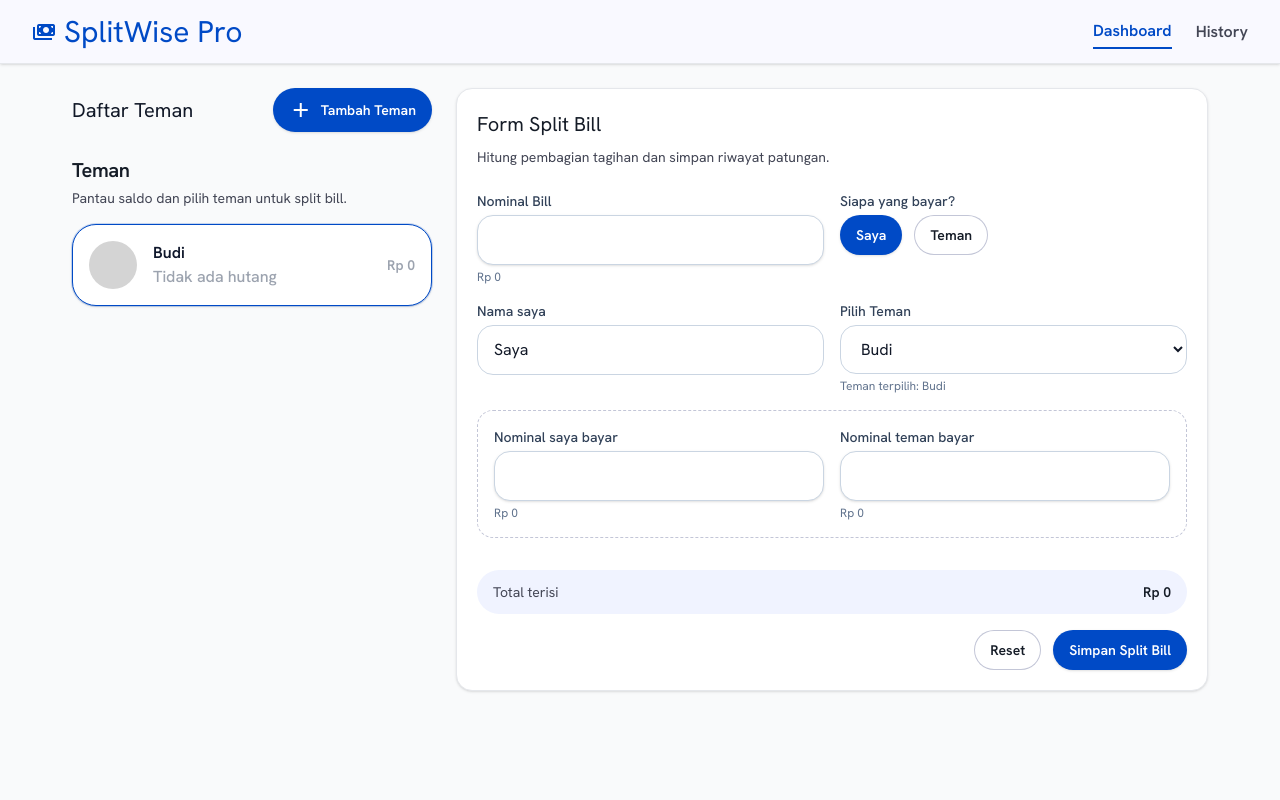
Test: Dashboard integration › submits split bill, shows success modal, and resets form
Type "Andi" into the field labelled "Nama saya" at (650, 350), box x1=477 y1=325 x2=824 y2=375
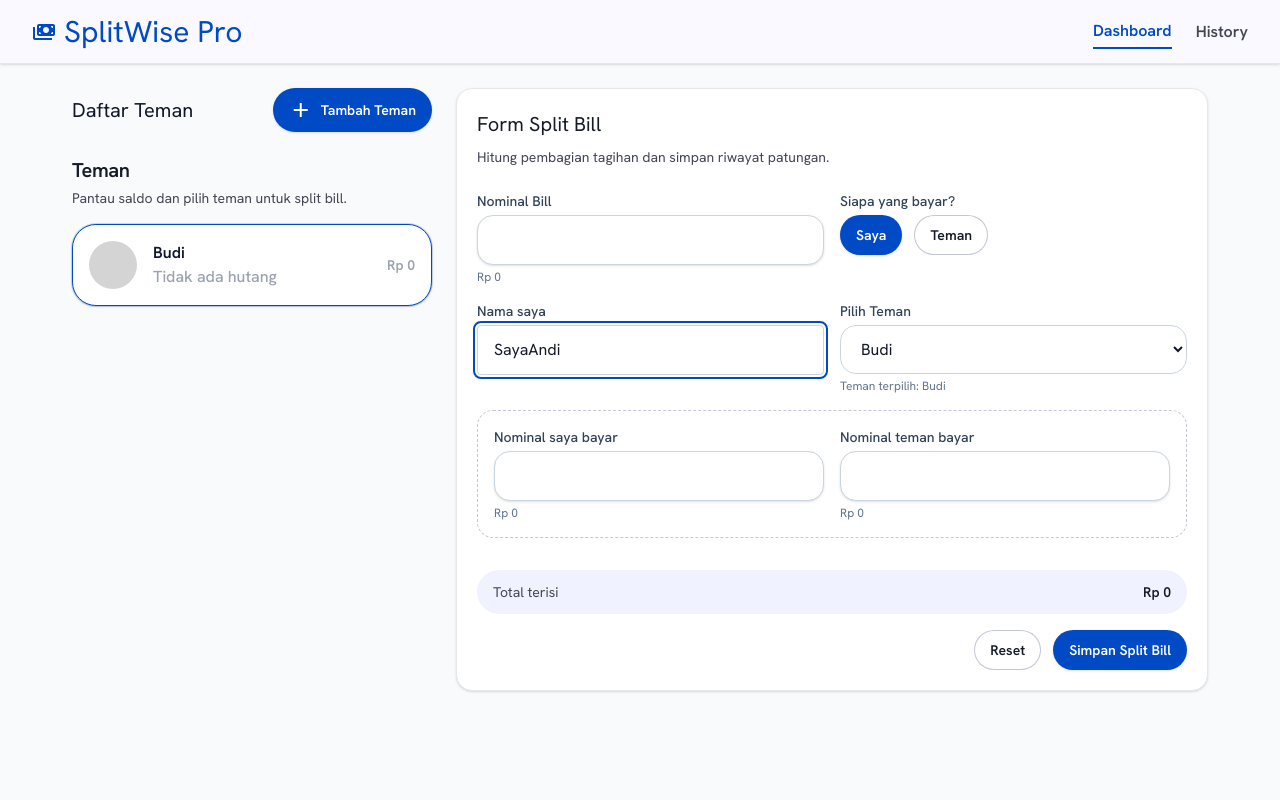
Type "30000" into the number field labelled "Nominal Bill Rp 0" at (650, 240), box x1=477 y1=215 x2=824 y2=265
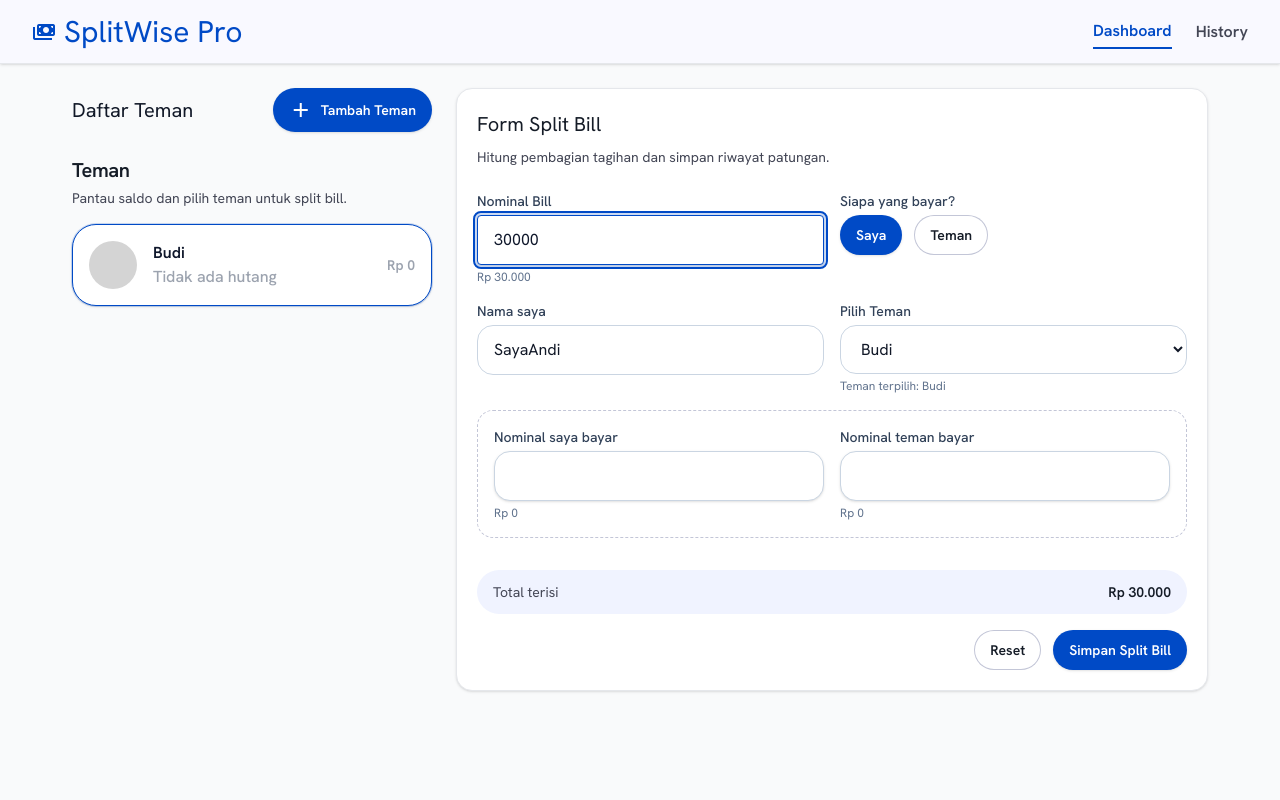
Click the button "Teman" at (951, 235), box x1=914 y1=215 x2=988 y2=255
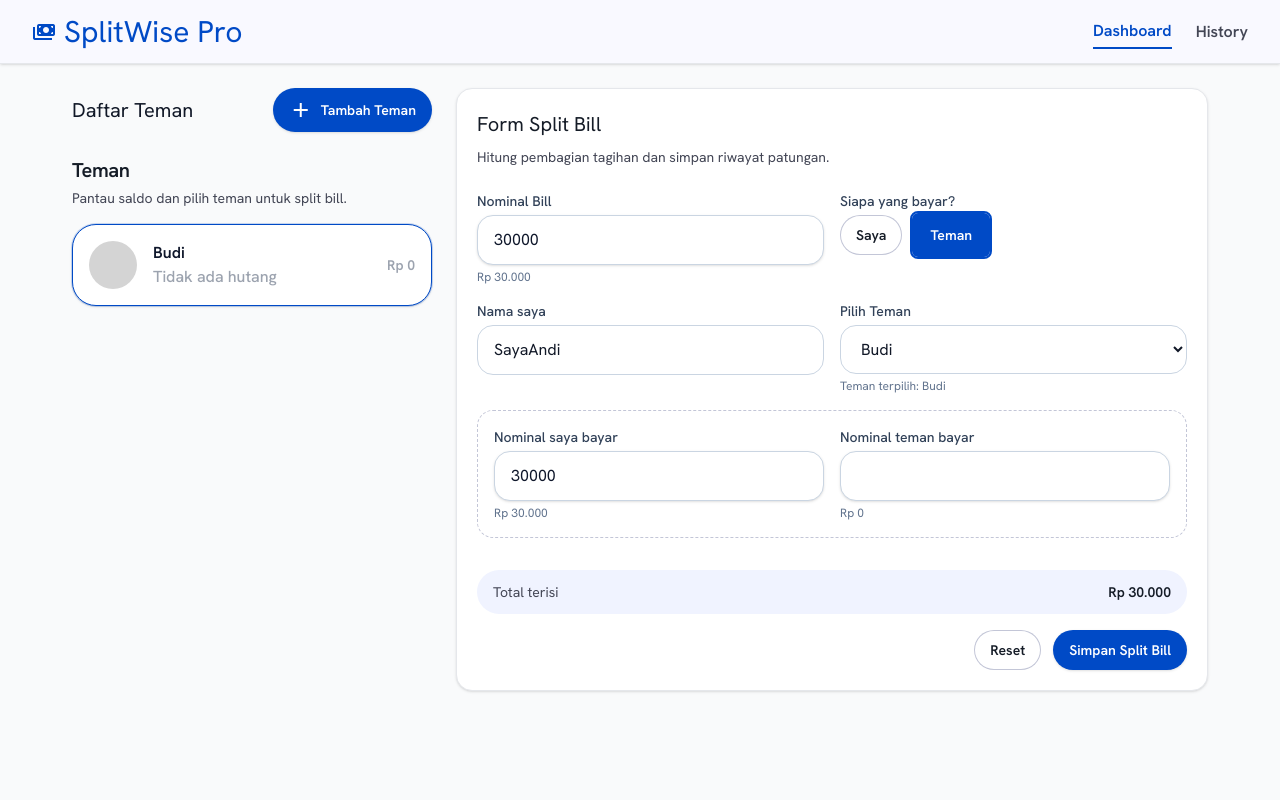
Click the button "Simpan Split Bill" at (1120, 650), box x1=1053 y1=630 x2=1187 y2=670
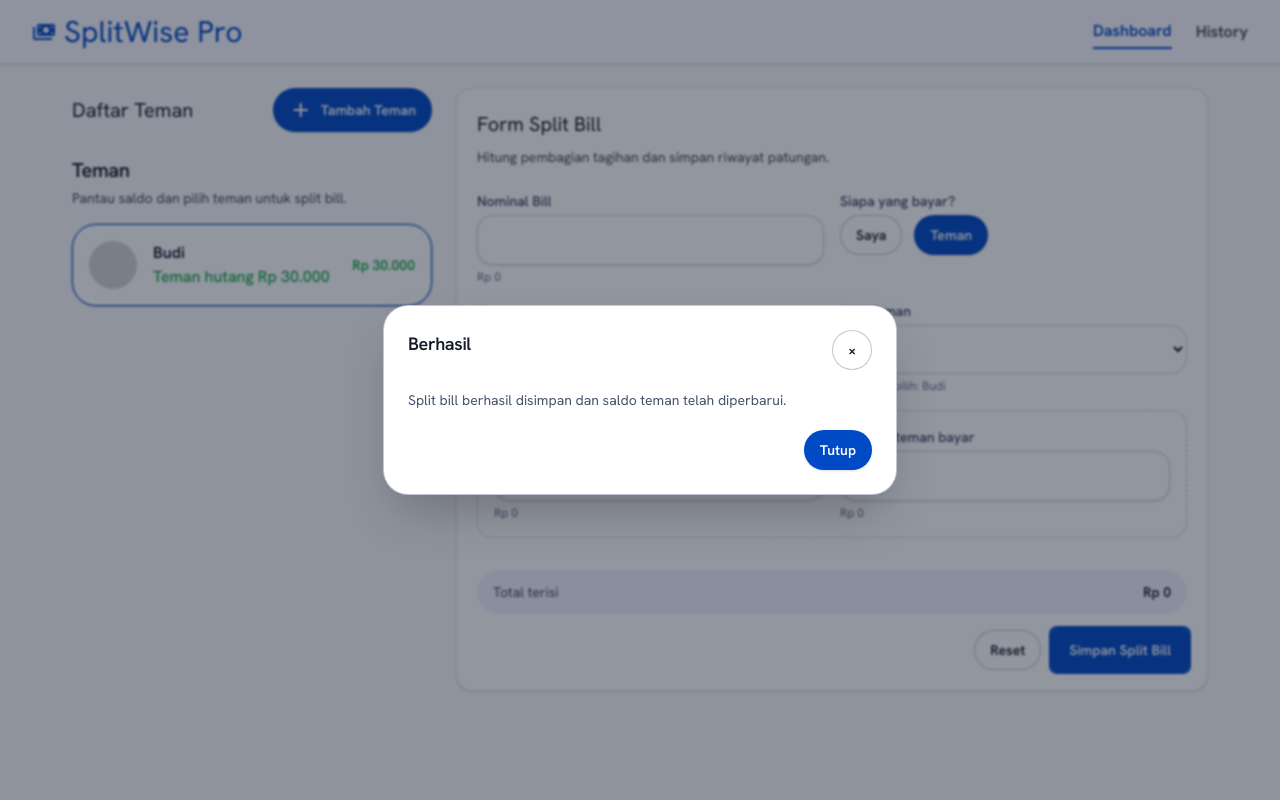
Expected: the field labelled "Nama saya" holds "Saya", x1=477 y1=325 x2=824 y2=375
Expected: the heading "Berhasil" is shown, x1=408 y1=330 x2=471 y2=358
